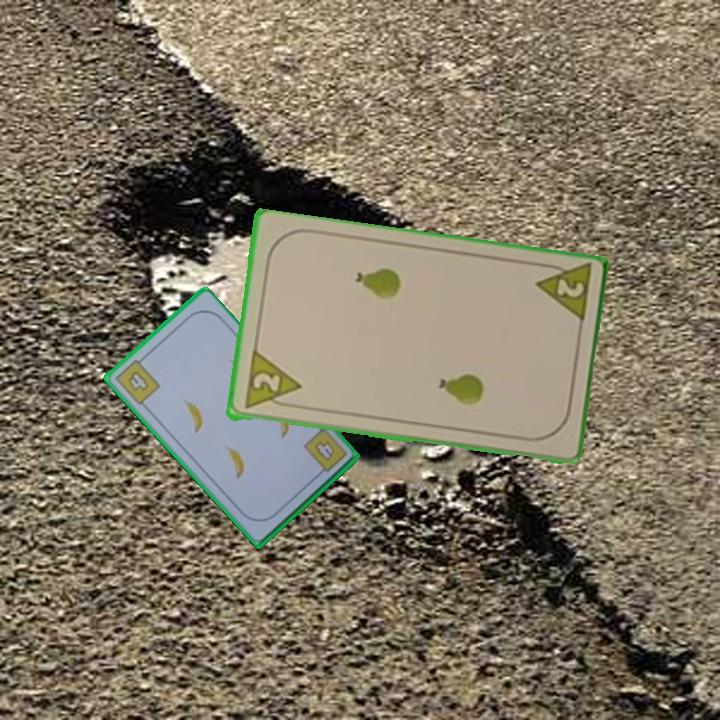2p: (531, 259, 594, 329), (240, 349, 303, 412)
4b: (111, 352, 163, 408), (300, 424, 350, 480)
